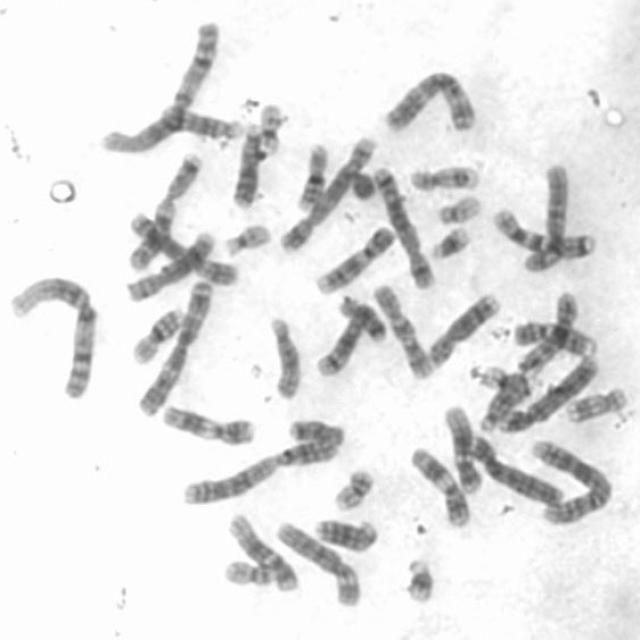A1: (96, 17, 222, 157), (6, 270, 100, 402)
A2: (176, 420, 348, 508), (526, 436, 615, 525)
A3: (132, 274, 215, 418), (380, 66, 480, 136)
B4: (492, 350, 601, 436), (462, 432, 566, 508)
B5: (273, 132, 378, 255), (368, 161, 436, 292)
C10: (368, 279, 434, 379), (515, 288, 581, 376)
C11: (406, 444, 472, 528), (158, 400, 258, 447)
C12: (224, 508, 301, 594), (440, 400, 484, 494)
C6: (271, 516, 364, 610), (519, 159, 572, 274)
C7: (123, 148, 203, 274), (487, 202, 599, 262)
C8: (122, 226, 217, 305), (425, 290, 501, 370)
C9: (313, 221, 398, 296), (509, 316, 598, 358)
D13: (228, 118, 264, 209), (311, 512, 378, 554)
D14: (310, 306, 370, 378), (155, 101, 246, 141)
D15: (473, 379, 543, 435), (265, 313, 304, 403)
E16: (128, 303, 186, 367), (292, 138, 332, 214)
E17: (561, 382, 630, 426), (406, 161, 480, 193)
E18: (335, 292, 388, 345), (285, 415, 346, 446)
F19: (476, 363, 536, 400), (253, 99, 286, 158)
F20: (329, 464, 377, 513), (221, 556, 276, 588)
G21: (400, 551, 438, 606), (425, 221, 471, 261)
G22: (219, 219, 272, 259), (435, 190, 483, 226)
X: (130, 211, 239, 286)
Y: (347, 169, 383, 203)
